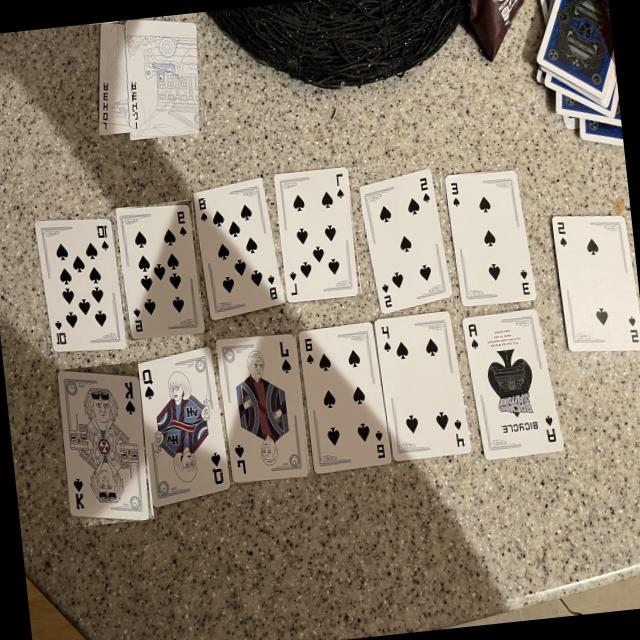10 of spades: (35, 217, 126, 351)
2 of spades: (551, 213, 640, 350)
3 of spades: (445, 168, 536, 304)
4 of spades: (375, 310, 470, 460)
5 of spades: (360, 167, 451, 311)
6 of spades: (298, 320, 392, 472)
7 of spades: (275, 165, 359, 301)
8 of spades: (193, 177, 283, 318)
9 of spades: (116, 201, 203, 336)
Ace of spades: (462, 307, 563, 458)
Jack of spades: (217, 332, 308, 481)
Joker: (125, 18, 200, 136), (99, 20, 131, 134)
King of spades: (57, 368, 149, 518)
Queen of spades: (135, 345, 230, 505)
